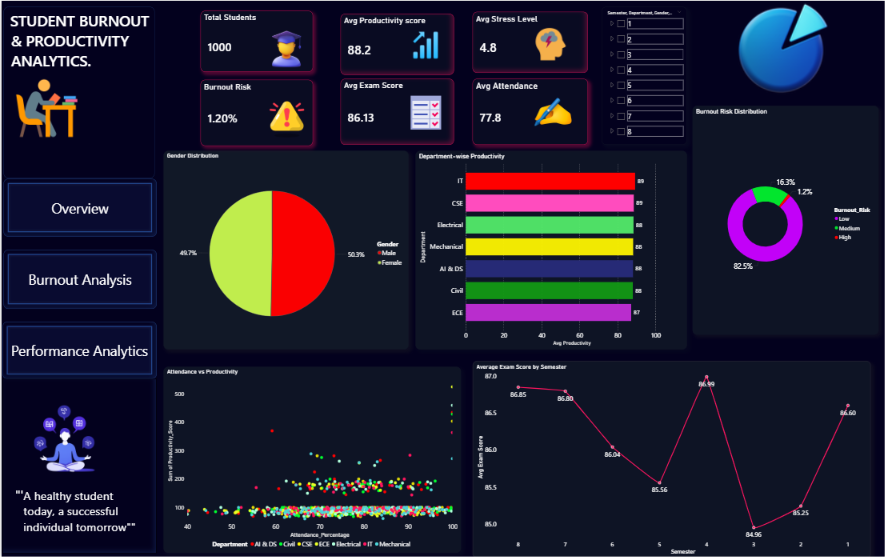

This screenshot's page, from the dashboard's own definition file:
{"tool":"powerbi","page":{"name":"Overview","canvas":[2850,1800],"ordinal":0},"visuals":[{"type":"textbox","box":[6.2,18.8,487.5,553.1],"z":0},{"type":"donutChart","title":"Burnout Risk Distribution","fields":{"Category":["Students.Burnout_Risk"],"Y":["CountNonNull(Students.Student_ID)"]},"box":[2229,338.7,600,738.7],"z":1000},{"type":"clusteredBarChart","title":"Department-wise Productivity","fields":{"Category":["Students.Department"],"Y":["Students.Avg Productivity"]},"box":[1334.4,484.4,875,640.6],"z":2000},{"type":"lineChart","title":"Average Exam Score by Semester","fields":{"Category":["Students.Semester"],"Y":["Students.Avg Exam Score"]},"box":[1520,1160,1285,640],"z":3000},{"type":"pieChart","title":"Gender Distribution","fields":{"Category":["Students.Gender"],"Y":["CountNonNull(Students.Student_ID)"]},"box":[521.9,484.4,790.6,640.6],"z":4000},{"type":"scatterChart","title":"Attendance vs Productivity","fields":{"X":["Students.Attendance_Percentage"],"Y":["Sum(Students.Productivity_Score)"],"Series":["Students.Department"]},"box":[521.9,1181.2,959.4,600],"z":5000},{"type":"slicer","fields":{"Values":["Students.Semester","Students.Department","Students.Gender","Students.Burnout_Risk"]},"box":[1935,20,275,445],"z":6000},{"type":"image","box":[6.2,228.1,281.2,234.4],"z":7000},{"type":"cardVisual","title":"Total Students","fields":{"Data":["Students.Total Students"]},"box":[640.6,31.2,362.5,196.9],"z":8000},{"type":"cardVisual","title":"Avg Productivity score","fields":{"Data":["Students.Avg Productivity"]},"box":[1093.8,40.6,365.6,196.9],"z":9000},{"type":"cardVisual","title":"Avg Stress Level","fields":{"Data":["Students.Avg Stress"]},"box":[1518.8,34.4,371.9,196.9],"z":10000},{"type":"cardVisual","title":"Avg Exam Score","fields":{"Data":["Students.Avg Exam Score"]},"box":[1093.8,253.1,365.6,212.5],"z":11000},{"type":"cardVisual","title":"Avg Attendance","fields":{"Data":["Students.Avg Attendance"]},"box":[1518.8,253.1,371.9,212.5],"z":12000},{"type":"cardVisual","title":"Burnout Risk","fields":{"Data":["Students.High Burnout %"]},"box":[640.6,256.2,362.5,212.5],"z":13000},{"type":"image","box":[2229,0,571,319.4],"z":14000},{"type":"actionButton","box":[6.7,803.3,493.3,190],"z":14001},{"type":"actionButton","box":[3.1,1034.4,496.9,184.4],"z":14002},{"type":"actionButton","box":[6.7,573.3,493.3,186.7],"z":14003},{"type":"image","box":[1584.4,78.1,371.9,125],"z":14004},{"type":"image","box":[1706.2,300,143.8,128.1],"z":14005},{"type":"image","box":[1309.4,84.4,115.6,118.8],"z":14006},{"type":"image","box":[1303.1,284.4,131.2,153.1],"z":14007},{"type":"image","box":[850,300,137.5,143.8],"z":14008},{"type":"image","box":[850,84.4,134.4,143.8],"z":14009},{"type":"textbox","box":[3,1218,497,563],"z":14010},{"type":"image","box":[71.9,1268.8,300,300],"z":14011}]}

Visuals, with their boxes in screenshot pixels (x1, y1, x2, y2), scaled from the page's 2850x1800 canvas onto the 885x557 screenshot:
textbox: bbox=(2, 6, 153, 177)
"Burnout Risk Distribution" donutChart: bbox=(692, 105, 878, 333)
"Department-wise Productivity" clusteredBarChart: bbox=(414, 150, 686, 348)
"Average Exam Score by Semester" lineChart: bbox=(472, 359, 871, 556)
"Gender Distribution" pieChart: bbox=(162, 150, 408, 348)
"Attendance vs Productivity" scatterChart: bbox=(162, 366, 460, 551)
slicer - Students.Semester x Students.Department: bbox=(601, 6, 686, 144)
image: bbox=(2, 71, 89, 143)
"Total Students" cardVisual: bbox=(199, 10, 311, 71)
"Avg Productivity score" cardVisual: bbox=(340, 13, 453, 73)
"Avg Stress Level" cardVisual: bbox=(472, 11, 587, 72)
"Avg Exam Score" cardVisual: bbox=(340, 78, 453, 144)
"Avg Attendance" cardVisual: bbox=(472, 78, 587, 144)
"Burnout Risk" cardVisual: bbox=(199, 79, 311, 145)
image: bbox=(692, 0, 869, 99)
actionButton: bbox=(2, 249, 155, 307)
actionButton: bbox=(1, 320, 155, 377)
actionButton: bbox=(2, 177, 155, 235)
image: bbox=(492, 24, 607, 63)
image: bbox=(530, 93, 574, 132)
image: bbox=(407, 26, 443, 63)
image: bbox=(405, 88, 445, 135)
image: bbox=(264, 93, 307, 137)
image: bbox=(264, 26, 306, 71)
textbox: bbox=(1, 377, 155, 551)
image: bbox=(22, 393, 115, 485)
